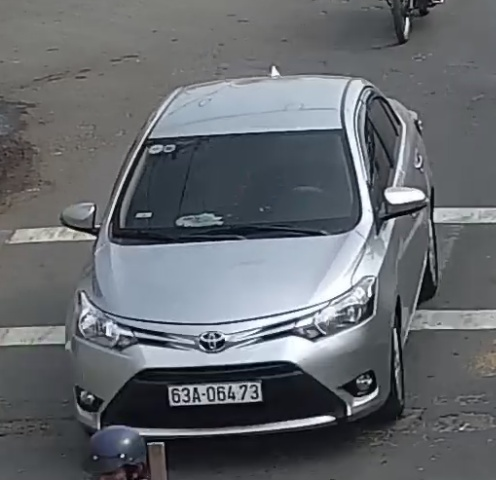vehicle plate: (160, 379, 276, 409)
